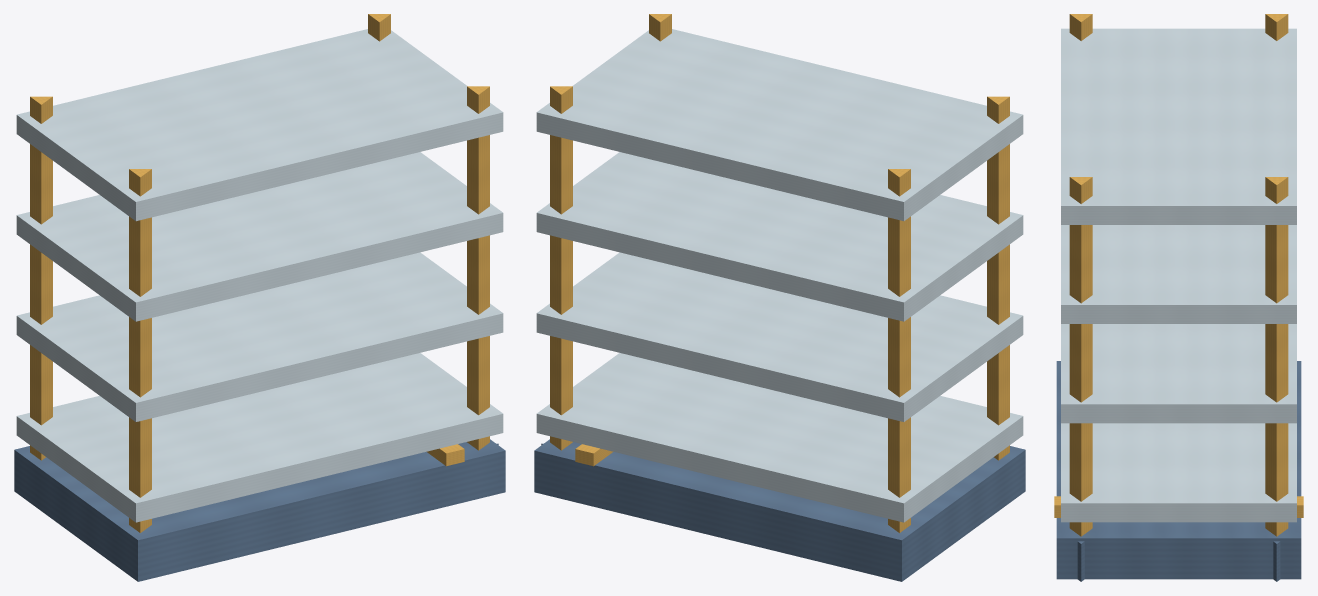
File: atlas100-s052-a06.lod2.glb
3 views of the same model, side by side, from view 1: azimuth 30°, elevation 25°; view 2: azimuth 150°, elevation 25°; view 3: azimuth 270°, elevation 25° (orthographic).
Parts seen in each view (by area): view 1: atlas100-s052-a06:part-014, atlas100-s052-a06:part-011, atlas100-s052-a06:part-012, atlas100-s052-a06:part-013, atlas100-s052-a06:part-000, atlas100-s052-a06:part-005, atlas100-s052-a06:part-009, atlas100-s052-a06:part-003; view 2: atlas100-s052-a06:part-014, atlas100-s052-a06:part-011, atlas100-s052-a06:part-012, atlas100-s052-a06:part-013, atlas100-s052-a06:part-000, atlas100-s052-a06:part-003, atlas100-s052-a06:part-007, atlas100-s052-a06:part-005; view 3: atlas100-s052-a06:part-014, atlas100-s052-a06:part-012, atlas100-s052-a06:part-011, atlas100-s052-a06:part-013, atlas100-s052-a06:part-000, atlas100-s052-a06:part-007, atlas100-s052-a06:part-009, atlas100-s052-a06:part-003, atlas100-s052-a06:part-005.
Part boxes in pixels (left/top/right/bottom): atlas100-s052-a06:part-014: left=16, top=29, right=503, bottom=221; atlas100-s052-a06:part-011: left=16, top=353, right=503, bottom=522; atlas100-s052-a06:part-012: left=16, top=252, right=503, bottom=421; atlas100-s052-a06:part-013: left=16, top=152, right=503, bottom=321; atlas100-s052-a06:part-000: left=14, top=439, right=505, bottom=581; atlas100-s052-a06:part-005: left=129, top=169, right=151, bottom=532; atlas100-s052-a06:part-009: left=467, top=86, right=489, bottom=450; atlas100-s052-a06:part-003: left=30, top=96, right=52, bottom=460; atlas100-s052-a06:part-014: left=536, top=29, right=1023, bottom=221; atlas100-s052-a06:part-011: left=536, top=353, right=1023, bottom=522; atlas100-s052-a06:part-012: left=536, top=252, right=1023, bottom=421; atlas100-s052-a06:part-013: left=536, top=152, right=1023, bottom=321; atlas100-s052-a06:part-000: left=534, top=439, right=1025, bottom=581; atlas100-s052-a06:part-003: left=888, top=169, right=910, bottom=532; atlas100-s052-a06:part-007: left=550, top=86, right=572, bottom=450; atlas100-s052-a06:part-005: left=987, top=96, right=1009, bottom=460; atlas100-s052-a06:part-014: left=1061, top=28, right=1296, bottom=224; atlas100-s052-a06:part-012: left=1061, top=324, right=1296, bottom=423; atlas100-s052-a06:part-011: left=1061, top=423, right=1296, bottom=522; atlas100-s052-a06:part-013: left=1061, top=225, right=1296, bottom=323; atlas100-s052-a06:part-000: left=1056, top=361, right=1301, bottom=579; atlas100-s052-a06:part-007: left=1265, top=177, right=1288, bottom=536; atlas100-s052-a06:part-009: left=1069, top=177, right=1092, bottom=536; atlas100-s052-a06:part-003: left=1265, top=14, right=1288, bottom=40; atlas100-s052-a06:part-005: left=1069, top=14, right=1092, bottom=40.
Size of the model in its own units: 2.43 by 2.48 by 1.43.
3 materials, 3 textured.
